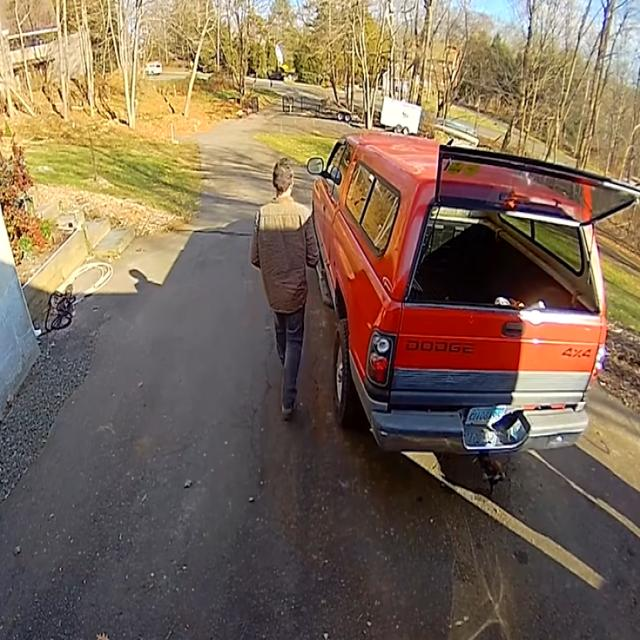Persona: (248, 156, 320, 422)
